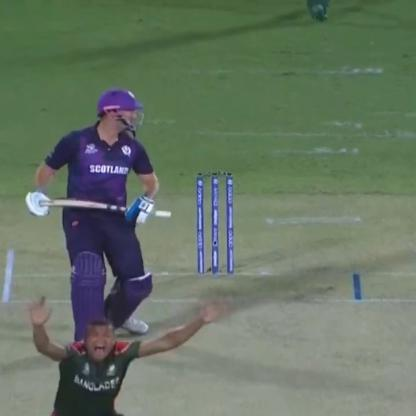bat: (24, 196, 180, 221)
pitch: (3, 258, 412, 414)
